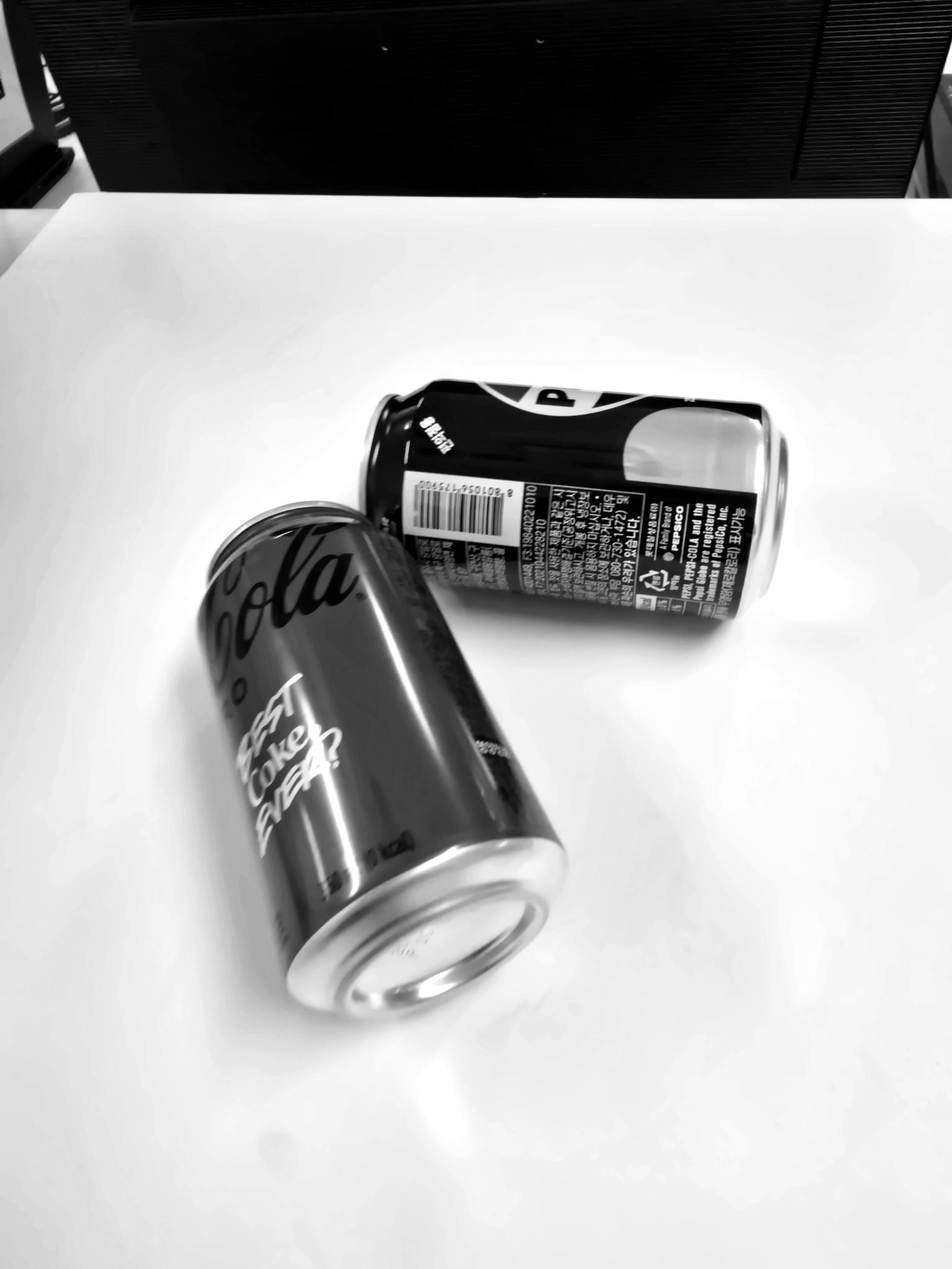can_coke_zero: (190, 491, 576, 1029)
can_pepsi_zero: (365, 384, 798, 623)
